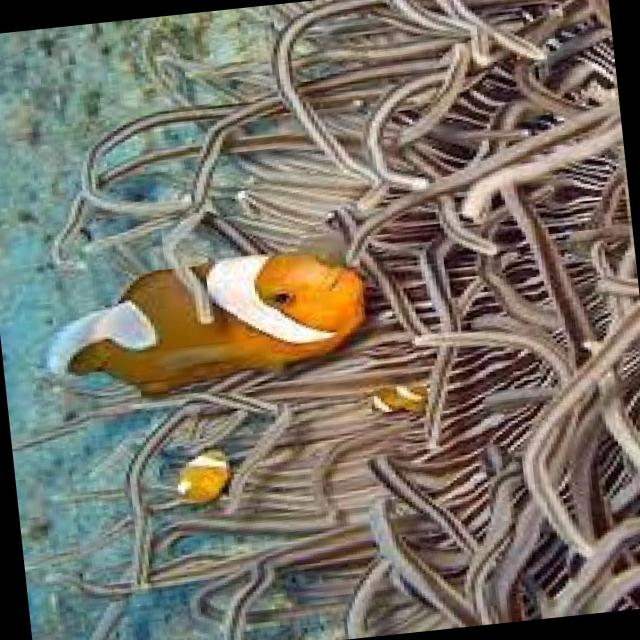ClownFish: (28, 236, 396, 417), (352, 364, 454, 434), (148, 436, 241, 506)
